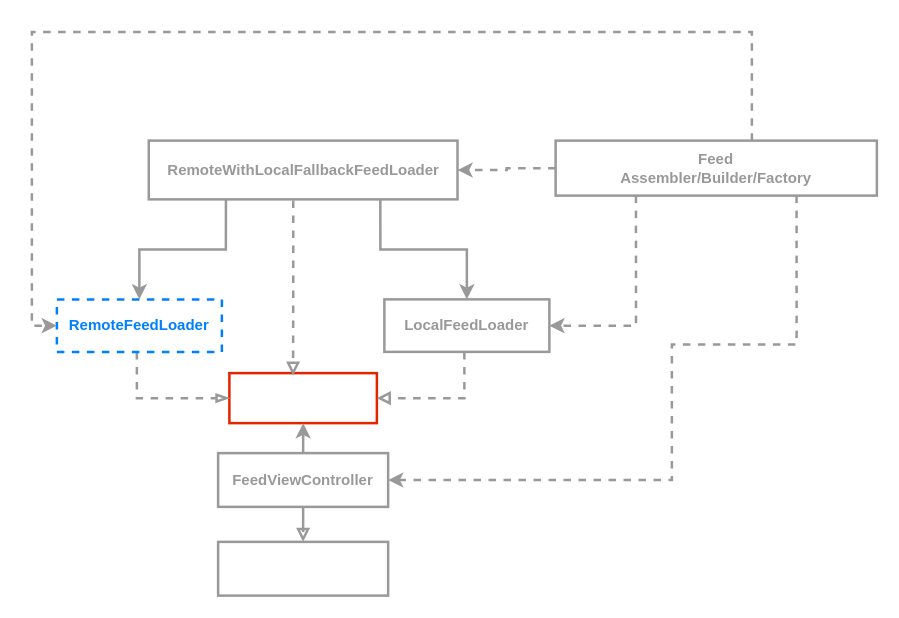
Image size: 899x618. Some labels were removed from this diagram. The centre of each missing label's shape, as x and y in pixels:
"<FeedLoad er>" goes at (303,397).
"UIViewController" goes at (302,568).
